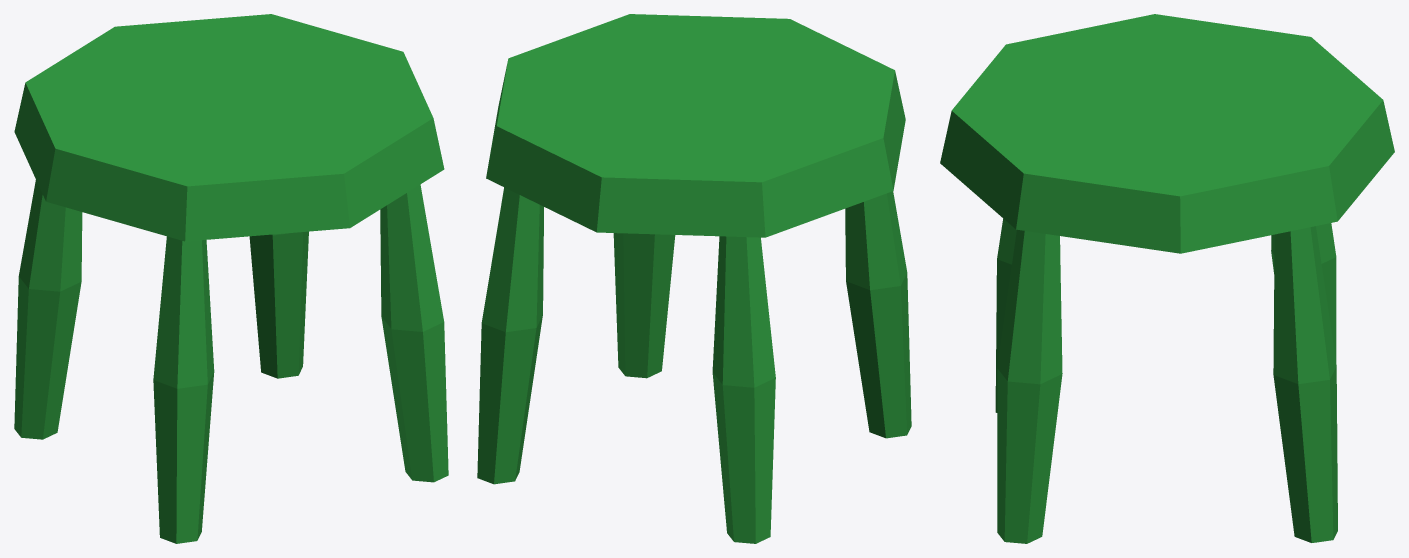
File: kruk.fbx
The picture shows the model from 3 angles, left to right: view 1: azimuth 30°, elevation 25°; view 2: azimuth 150°, elevation 25°; view 3: azimuth 270°, elevation 25°; orthographic projection. The views are drawn at different scales.
Parts seen in each view (by area): view 1: Kruk; view 2: Kruk; view 3: Kruk.
Boxes of the visible parts, x1,y1,x2,y2 form: Kruk: (14,14,448,543); Kruk: (477,14,911,543); Kruk: (940,14,1394,543).
Size of the model in its own units: 33.94 by 30.09 by 33.94.
